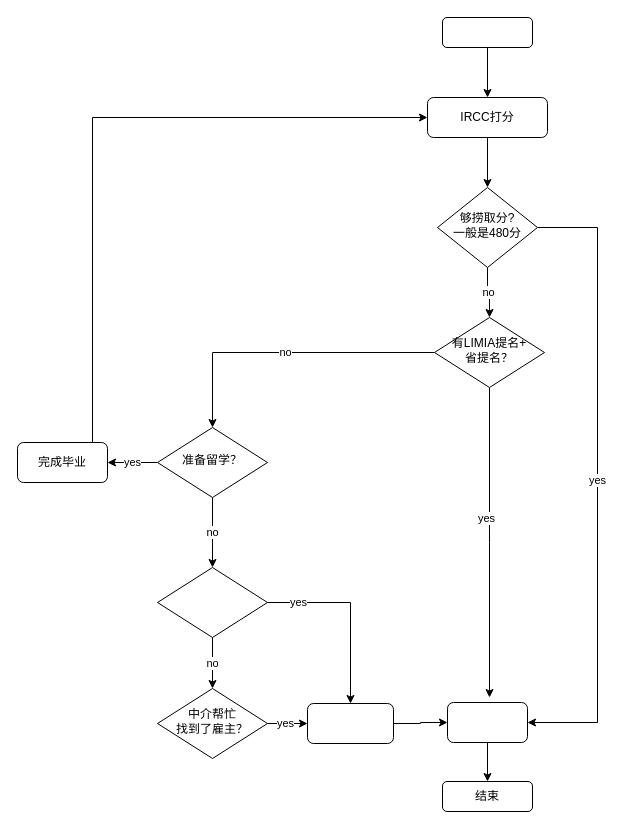
Image size: 623x829. Some labels were removed from this diagram. The centre of each missing label's shape, as x and y in pixels:
开始: point (487, 32)
等待被捞取: point (487, 722)
自己找到了雇主?: point (212, 602)
雇主申请 LMIA+省提名: point (350, 723)
